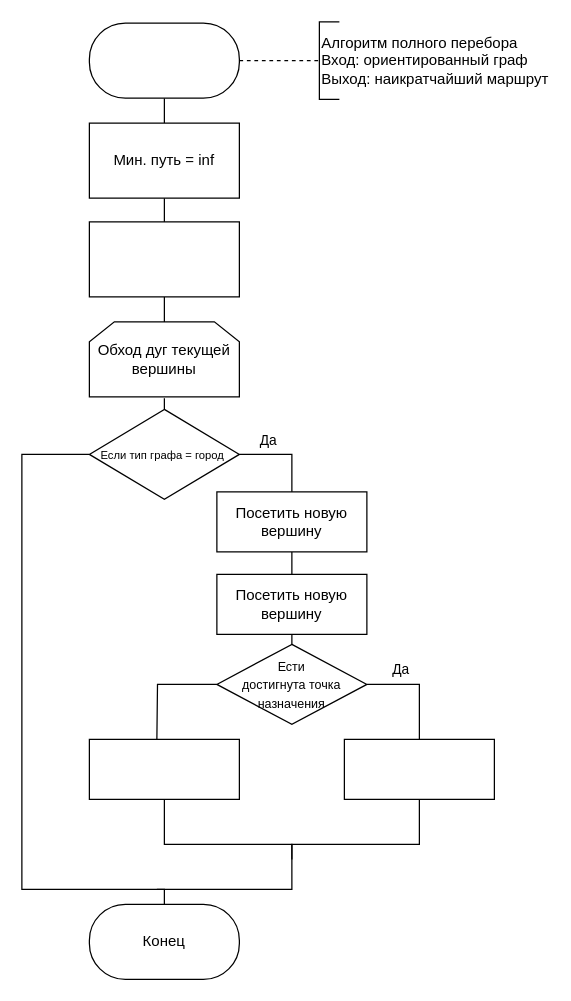
Image size: 571x1001. Some labels were removed from this diagram. Here are the shapes that lost their labels. From the top down, the centre of each, then its label:
At point (163, 60): "Начало".
At point (163, 259): "Посетить начальную вершину графа".
At point (163, 768): "Вернуться в предыдущую вершину".
At point (418, 768): "Обновить наикратчайший маршрут".
